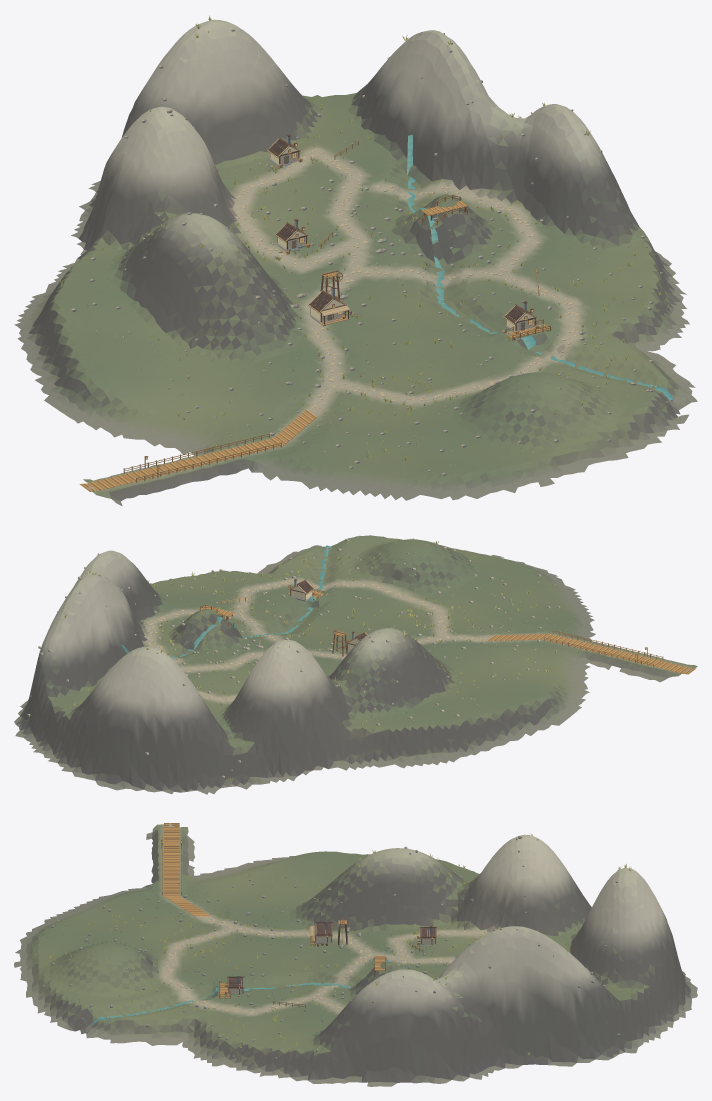
File: extension_heights.glb
3 views of the same model, one above another, from view 1: azimuth 30°, elevation 25°; view 2: azimuth 150°, elevation 25°; view 3: azimuth 270°, elevation 25° (orthographic). The views are drawn at different scales.
Parts seen in each view (by area): view 1: Erdrelief · Himmelstufen · 16,1, Erdrelief · Himmelstufen · 14,4, Erdrelief · Himmelstufen · 13,1, Erdrelief · Himmelstufen · 15,3, Erdrelief · Himmelstufen · 13,3, Erdrelief · Himmelstufen · 12,1, Erdrelief · Himmelstufen · 14,-2, Erdrelief · Himmelstufen · 16,2, Erdrelief · Himmelstufen · 15,1, Erdrelief · Himmelstufen · 15,2, Erdrelief · Himmelstufen · 12,2, Erdrelief · Himmelstufen · 12,0 (+30 smaller); view 2: Erdrelief · Himmelstufen · 14,4, Erdrelief · Himmelstufen · 13,3, Erdrelief · Himmelstufen · 12,2, Erdrelief · Himmelstufen · 13,4, Erdrelief · Himmelstufen · 14,-1, Erdrelief · Himmelstufen · 15,4, Erdrelief · Himmelstufen · 13,-1, Erdrelief · Himmelstufen · 15,2, Erdrelief · Himmelstufen · 15,3, Erdrelief · Himmelstufen · 13,2, Erdrelief · Himmelstufen · 12,1, Erdrelief · Himmelstufen · 12,0 (+30 smaller); view 3: Erdrelief · Himmelstufen · 16,3, Erdrelief · Himmelstufen · 16,2, Erdrelief · Himmelstufen · 15,4, Erdrelief · Himmelstufen · 16,1, Erdrelief · Himmelstufen · 13,2, Erdrelief · Himmelstufen · 13,1, Erdrelief · Himmelstufen · 15,-1, Erdrelief · Himmelstufen · 16,0, Erdrelief · Himmelstufen · 16,4, Erdrelief · Himmelstufen · 13,3, Erdrelief · Himmelstufen · 14,3, Erdrelief · Himmelstufen · 12,0 (+28 smaller).
Boxes of the visible parts, x1,y1,x2,y2 form: Erdrelief · Himmelstufen · 16,1: [508, 122, 675, 276]; Erdrelief · Himmelstufen · 14,4: [121, 19, 274, 154]; Erdrelief · Himmelstufen · 13,1: [177, 226, 353, 367]; Erdrelief · Himmelstufen · 15,3: [275, 53, 446, 191]; Erdrelief · Himmelstufen · 13,3: [77, 106, 227, 259]; Erdrelief · Himmelstufen · 12,1: [69, 257, 242, 393]; Erdrelief · Himmelstufen · 14,-2: [475, 383, 630, 486]; Erdrelief · Himmelstufen · 16,2: [446, 65, 588, 217]; Erdrelief · Himmelstufen · 15,1: [395, 200, 570, 312]; Erdrelief · Himmelstufen · 15,2: [338, 86, 507, 246]; Erdrelief · Himmelstufen · 12,2: [14, 239, 178, 337]; Erdrelief · Himmelstufen · 12,0: [131, 367, 297, 455]; Erdrelief · Himmelstufen · 14,4: [103, 646, 236, 792]; Erdrelief · Himmelstufen · 13,3: [235, 639, 360, 775]; Erdrelief · Himmelstufen · 12,2: [364, 651, 493, 765]; Erdrelief · Himmelstufen · 13,4: [190, 708, 297, 794]; Erdrelief · Himmelstufen · 14,-1: [339, 540, 472, 614]; Erdrelief · Himmelstufen · 15,4: [31, 648, 125, 764]; Erdrelief · Himmelstufen · 13,-1: [423, 577, 554, 635]; Erdrelief · Himmelstufen · 15,2: [116, 592, 246, 671]; Erdrelief · Himmelstufen · 15,3: [68, 591, 196, 689]; Erdrelief · Himmelstufen · 13,2: [324, 628, 412, 719]; Erdrelief · Himmelstufen · 12,1: [410, 648, 541, 712]; Erdrelief · Himmelstufen · 12,0: [458, 640, 587, 684]; Erdrelief · Himmelstufen · 16,3: [480, 926, 578, 1076]; Erdrelief · Himmelstufen · 16,2: [385, 938, 482, 1081]; Erdrelief · Himmelstufen · 15,4: [577, 893, 673, 1040]; Erdrelief · Himmelstufen · 16,1: [289, 974, 386, 1081]; Erdrelief · Himmelstufen · 13,2: [384, 848, 481, 934]; Erdrelief · Himmelstufen · 13,1: [289, 849, 386, 942]; Erdrelief · Himmelstufen · 15,-1: [94, 971, 195, 1039]; Erdrelief · Himmelstufen · 16,0: [193, 1019, 290, 1078]; Erdrelief · Himmelstufen · 16,4: [576, 960, 648, 1062]; Erdrelief · Himmelstufen · 13,3: [481, 834, 577, 920]; Erdrelief · Himmelstufen · 14,3: [481, 878, 577, 958]; Erdrelief · Himmelstufen · 12,0: [193, 863, 290, 912].
Size of the model in its own units: 113 by 25.86 by 128.
